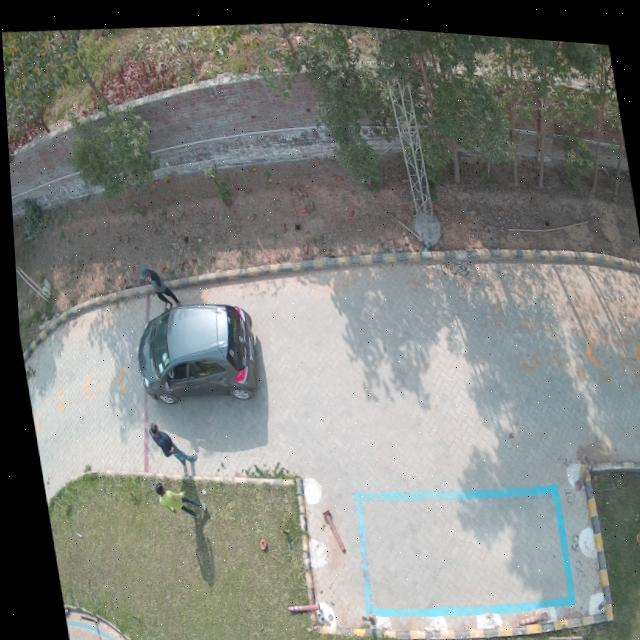car: (135, 302, 252, 402)
